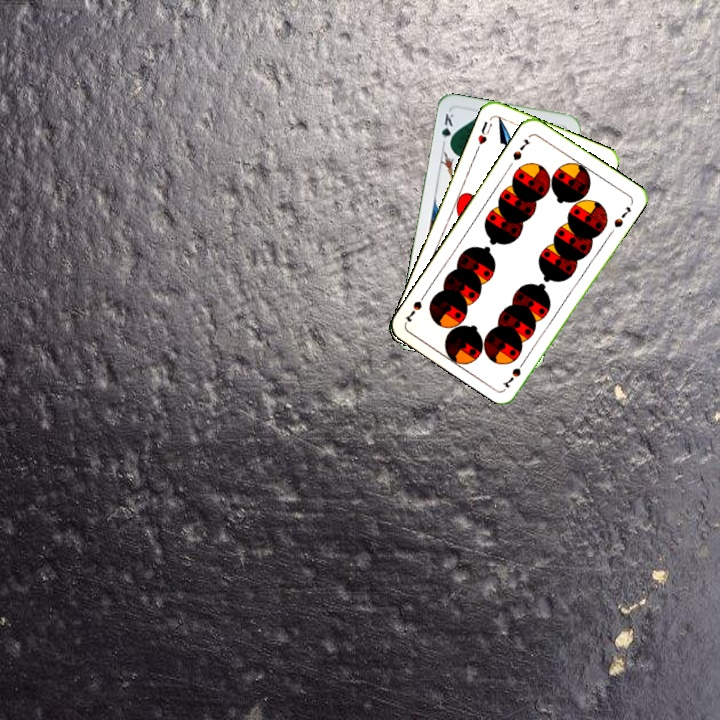GK: (437, 109, 457, 149)
HU: (474, 117, 495, 147)
S7: (499, 354, 529, 390), (509, 135, 532, 163)
